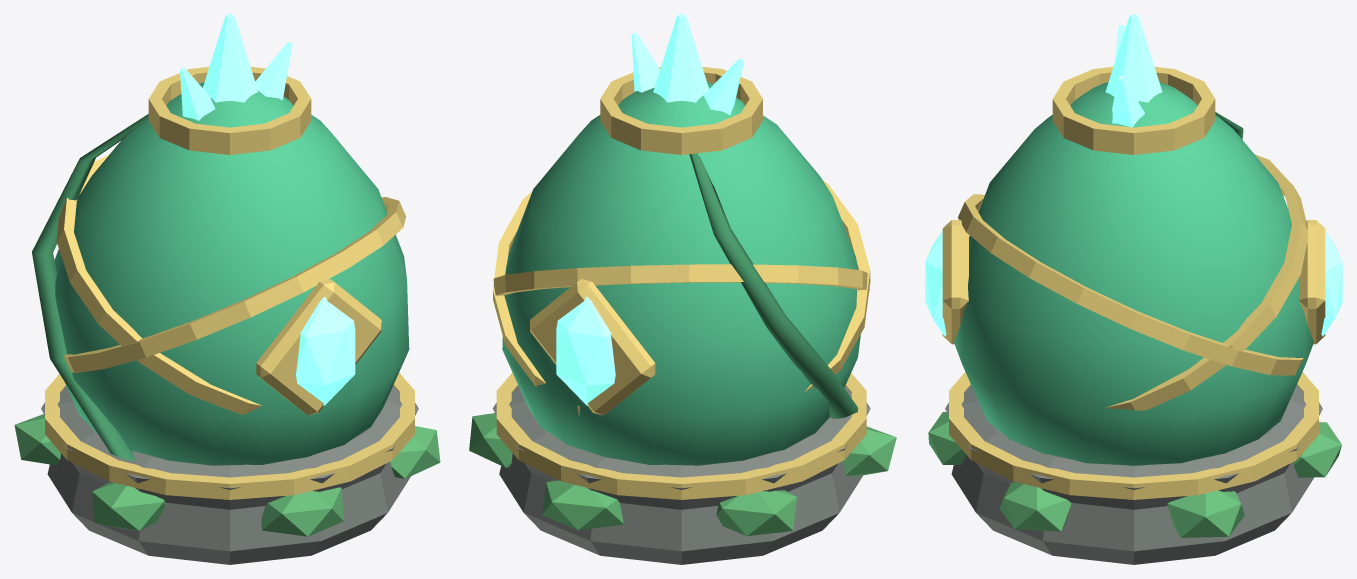
Rendered from BossEgg_Meadow.glb.
3 renders of one model, left to right at view 1: azimuth 30°, elevation 25°; view 2: azimuth 150°, elevation 25°; view 3: azimuth 270°, elevation 25°, orthographic.
Visible parts, largest first — view 1: BossEgg_Meadow; view 2: BossEgg_Meadow; view 3: BossEgg_Meadow.
Boxes of the visible parts, x1,y1,x2,y2 form: BossEgg_Meadow: [14, 14, 440, 564]; BossEgg_Meadow: [469, 14, 896, 564]; BossEgg_Meadow: [925, 14, 1342, 564].
Size of the model in its own units: 3.61 by 4.83 by 3.8.
